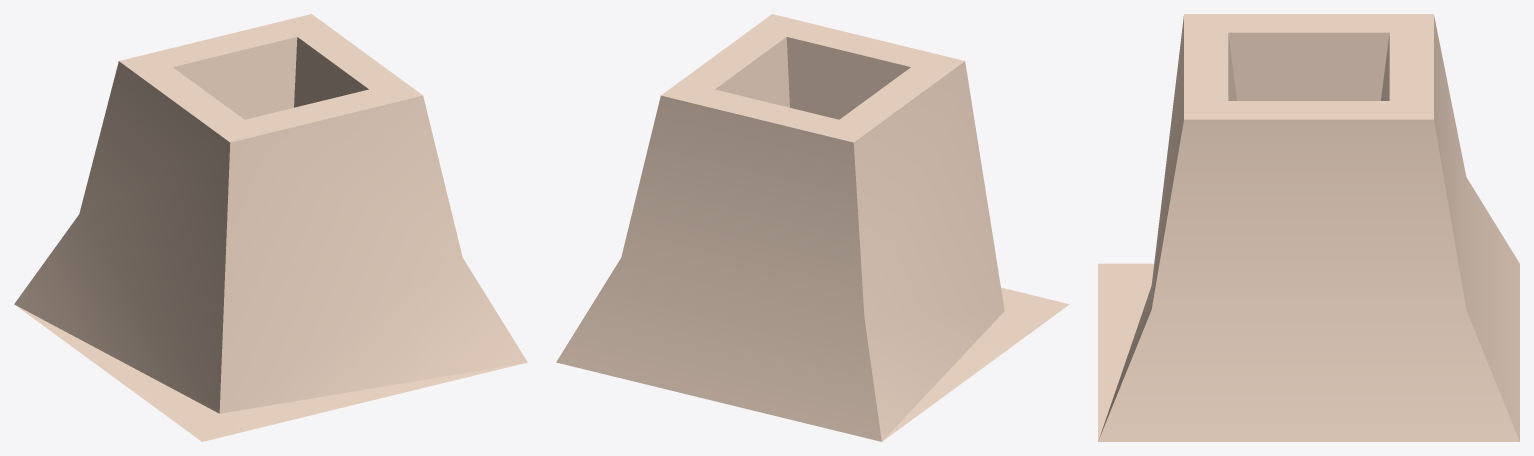
File: treeStump_deep.fbx
3 renders of one model, left to right at view 1: azimuth 30°, elevation 25°; view 2: azimuth 150°, elevation 25°; view 3: azimuth 270°, elevation 25°, orthographic. The views are drawn at different scales.
Parts seen in each view (by area): view 1: treeStump_deep; view 2: treeStump_deep; view 3: treeStump_deep.
Part boxes in pixels (x1=…): treeStump_deep: x1=14, y1=14, x2=527, y2=441; treeStump_deep: x1=556, y1=14, x2=1069, y2=441; treeStump_deep: x1=1098, y1=14, x2=1519, y2=441.
Size of the model in its own units: 84.39 by 63.15 by 84.39.
